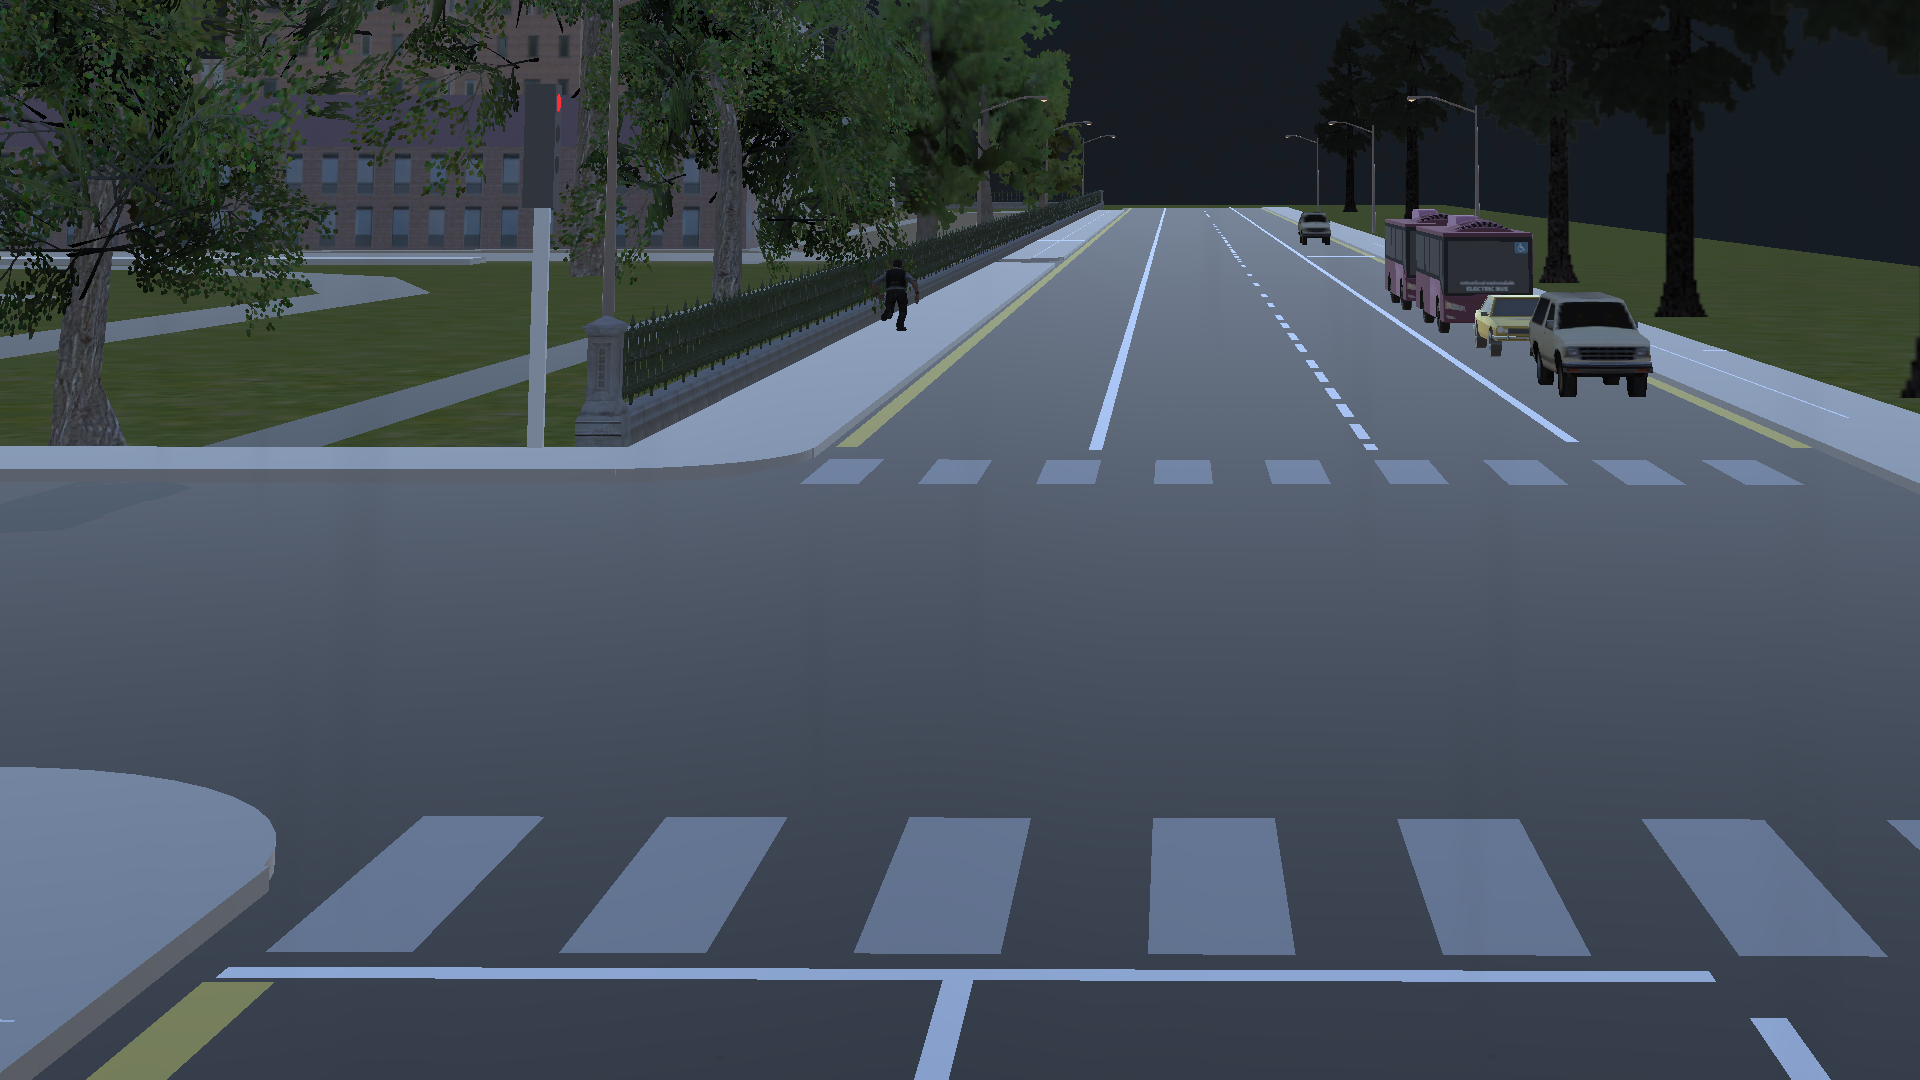pedestrian: (868, 241, 931, 341)
